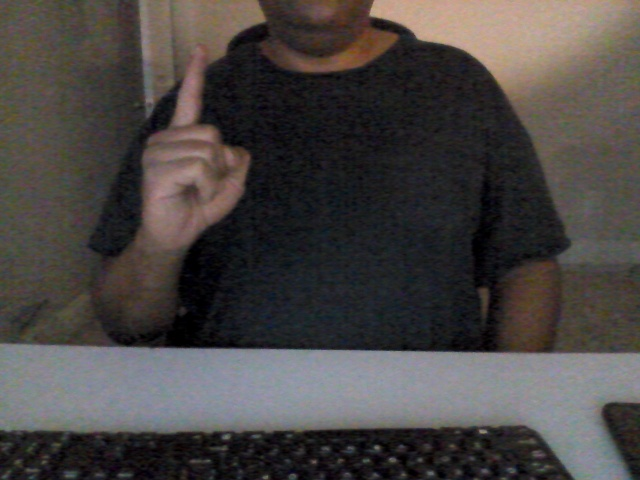up: (136, 38, 268, 254)
